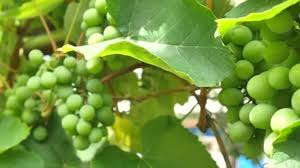grapes: (227, 15, 292, 158), (48, 55, 110, 152)
